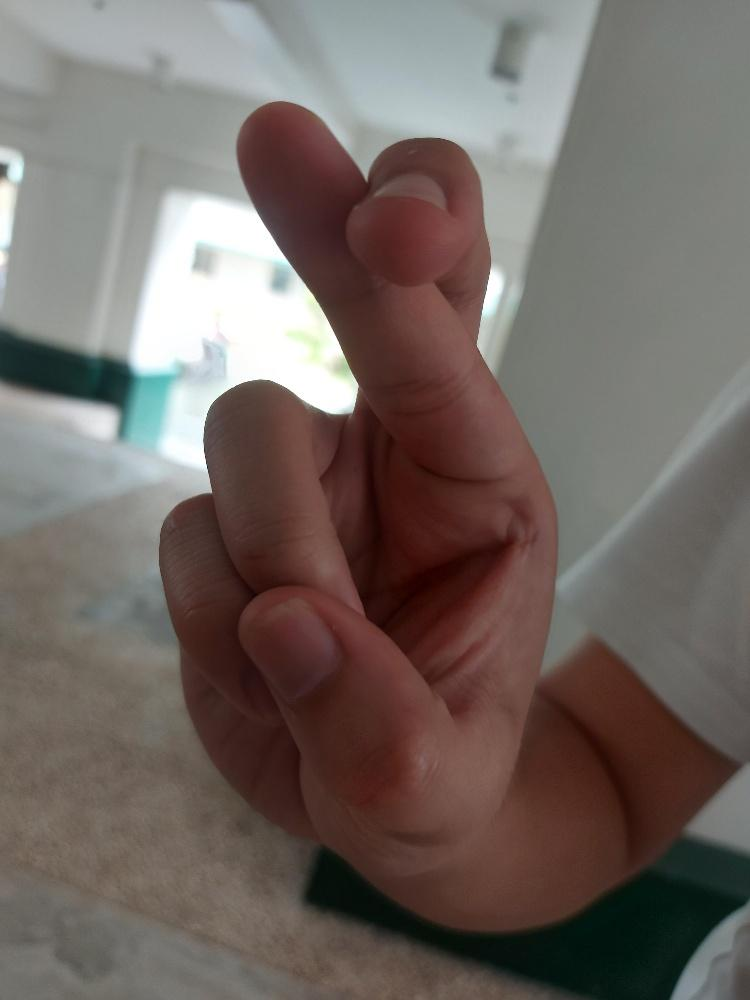r: (157, 98, 561, 879)
